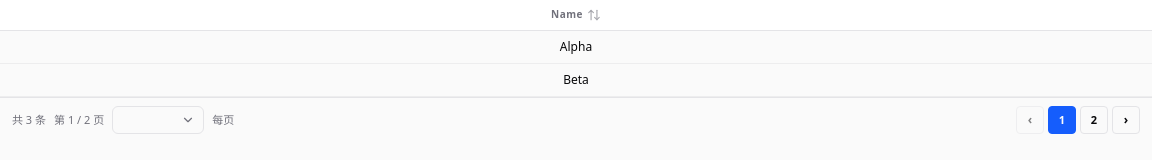
Test: DataTable › pages through rows with PaginationBar
Expected: the text "Alpha" is shown, [0,30,1151,64]
Expected: the text "Beta" is shown, [0,64,1151,96]
Click the button named "下一页" at (1126, 120), box [1112,106,1140,134]
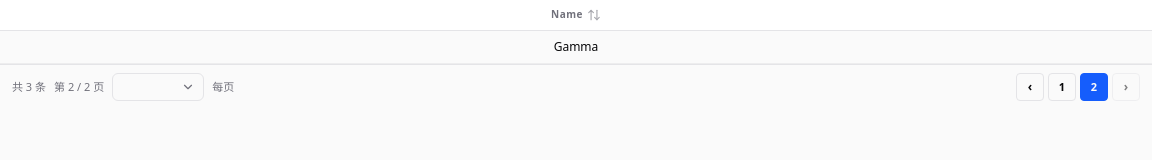
Expected: the text "Alpha" is gone
Expected: the text "Beta" is gone
Expected: the text "Gamma" is shown, [0,30,1151,64]
